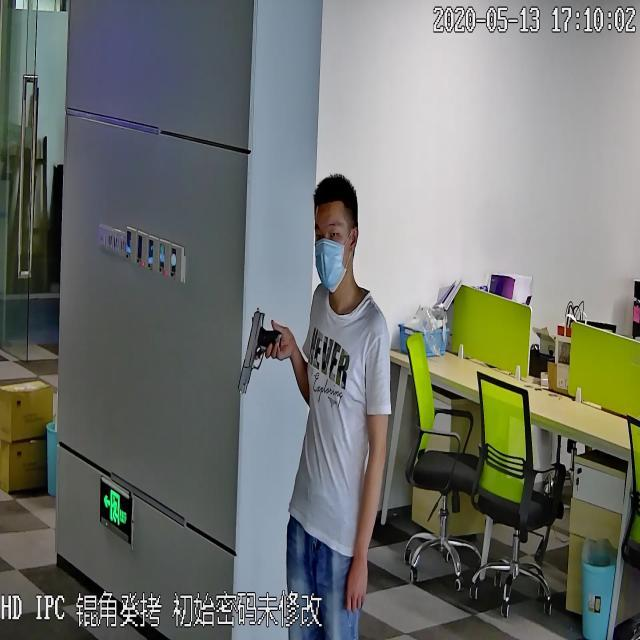gun: (236, 305, 282, 398)
